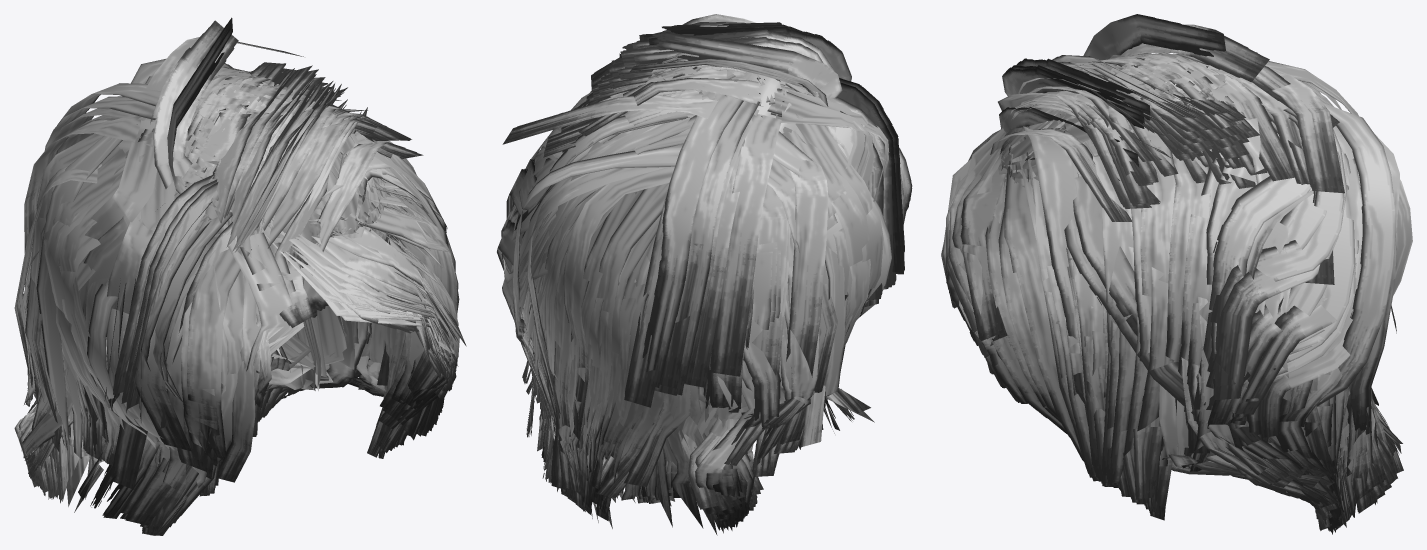
The model's file is daz_hair_side_long.glb.
3 renders of one model, left to right at view 1: azimuth 30°, elevation 25°; view 2: azimuth 150°, elevation 25°; view 3: azimuth 270°, elevation 25°, orthographic. The views are drawn at different scales.
Visible parts, largest first — view 1: daz_hair_side_long; view 2: daz_hair_side_long; view 3: daz_hair_side_long.
Boxes of the visible parts, box(x1,y1,x2,y2) form: daz_hair_side_long: box(14, 17, 466, 535); daz_hair_side_long: box(497, 14, 912, 535); daz_hair_side_long: box(941, 14, 1412, 534).
Bounding box in the file's own units: 0.2152 × 0.2782 × 0.2433.
Materials: 1 (1 with a texture image).
